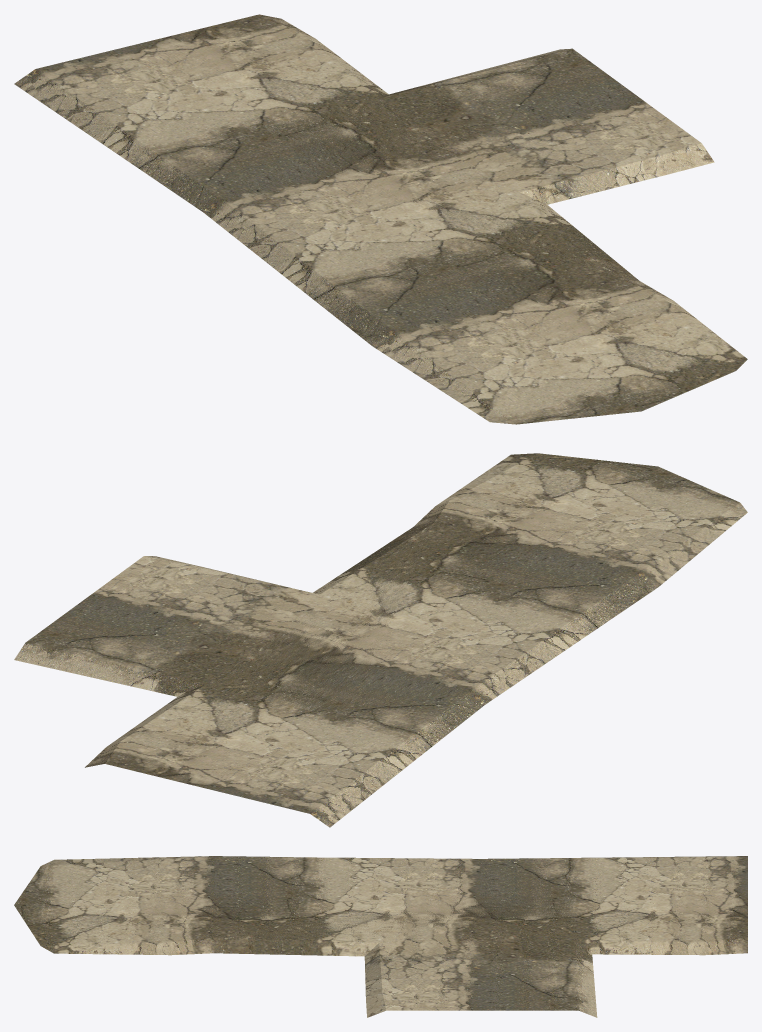
Rendered from bz__ASpavement_01.fbx.
3 renders of one model, top to bottom at view 1: azimuth 30°, elevation 25°; view 2: azimuth 150°, elevation 25°; view 3: azimuth 270°, elevation 25°, orthographic. The views are drawn at different scales.
Parts seen in each view (by area): view 1: bz__ASpavement_01, bz__ASpavement_02, bz__ASpavement_03; view 2: bz__ASpavement_01, bz__ASpavement_02, bz__ASpavement_03; view 3: bz__ASpavement_01, bz__ASpavement_02, bz__ASpavement_03.
Boxes of the visible parts, left/top/right/bottom form: bz__ASpavement_01: left=14, top=14, right=616, bottom=345; bz__ASpavement_02: left=227, top=48, right=714, bottom=280; bz__ASpavement_03: left=372, top=276, right=747, bottom=424; bz__ASpavement_01: left=85, top=523, right=658, bottom=827; bz__ASpavement_02: left=14, top=523, right=467, bottom=709; bz__ASpavement_03: left=413, top=453, right=747, bottom=586; bz__ASpavement_01: left=214, top=856, right=747, bottom=955; bz__ASpavement_02: left=214, top=859, right=597, bottom=1017; bz__ASpavement_03: left=14, top=856, right=214, bottom=955.
Size of the model in its own units: 2.87 by 0.06 by 5.5.
